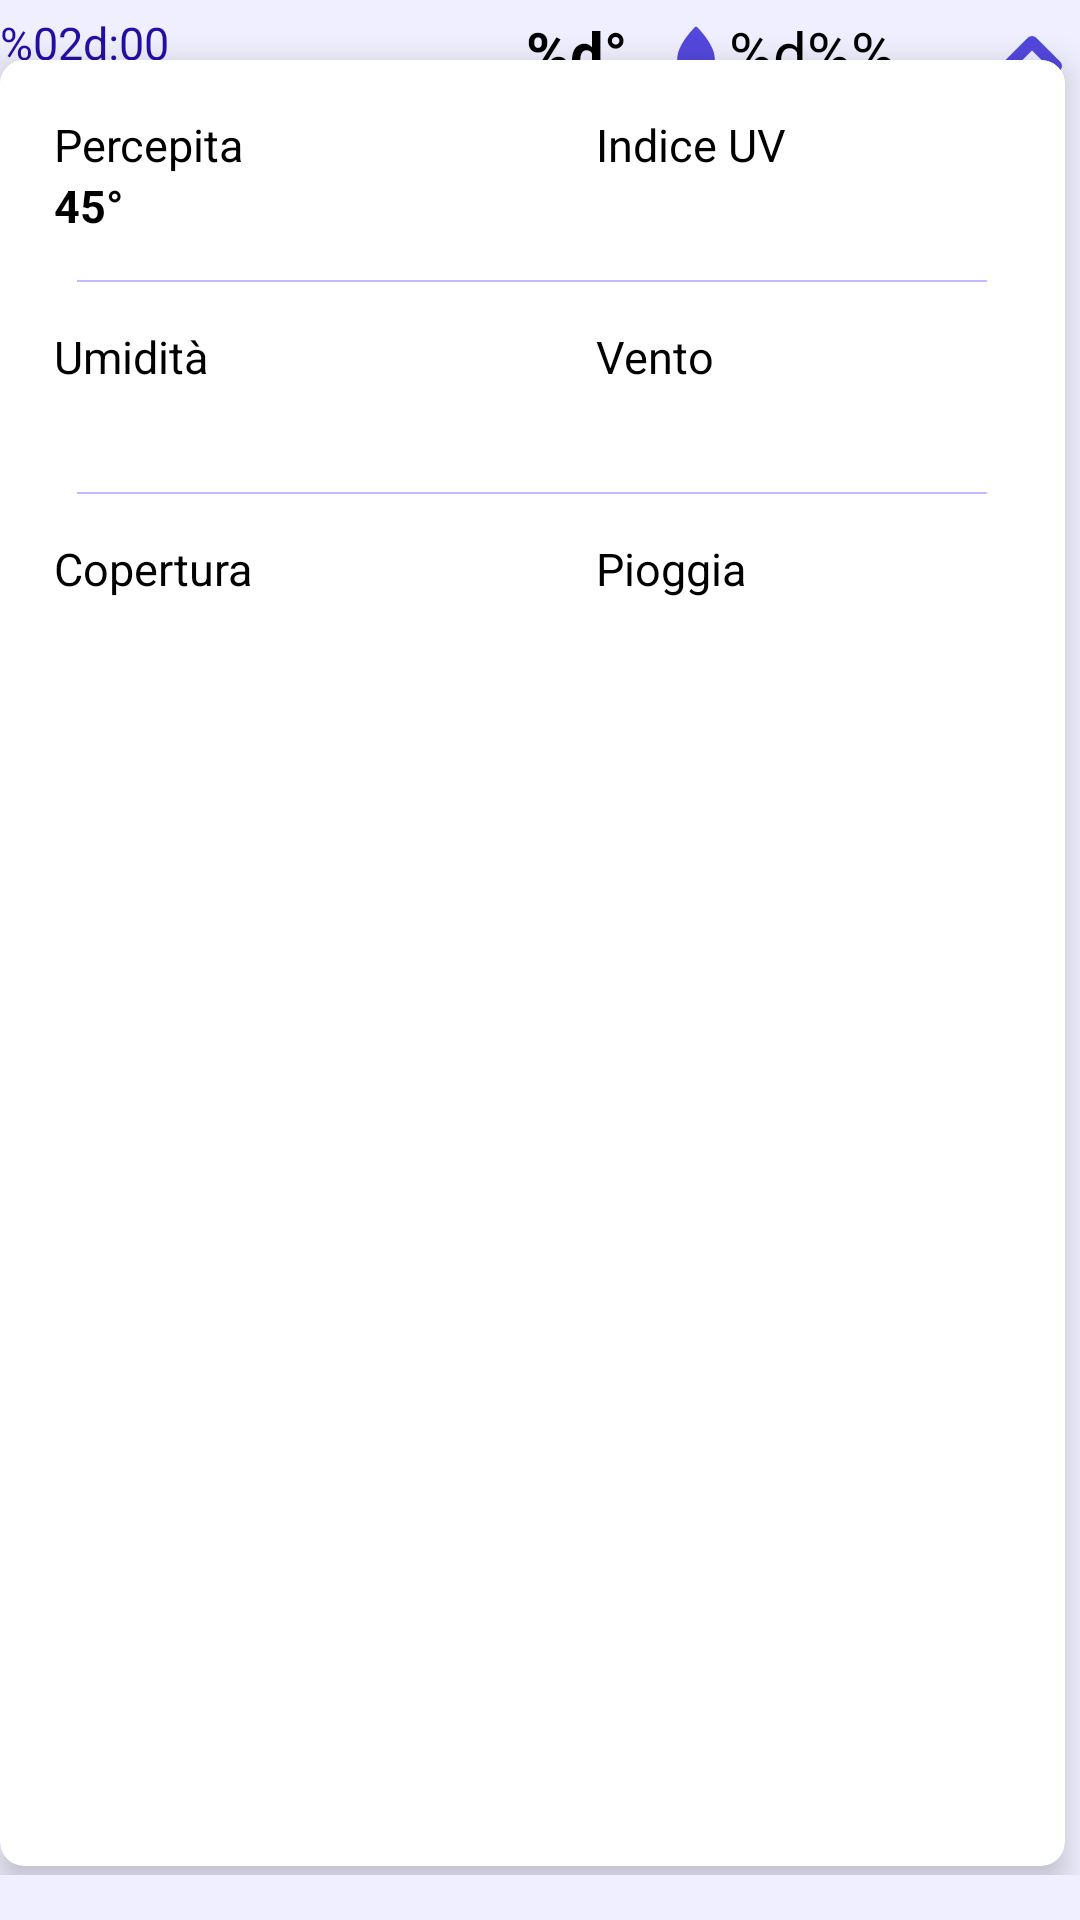

Icons on this 1080×1920 Android screen, each with the point to tap as (x,y):
water drop: (696,43)
